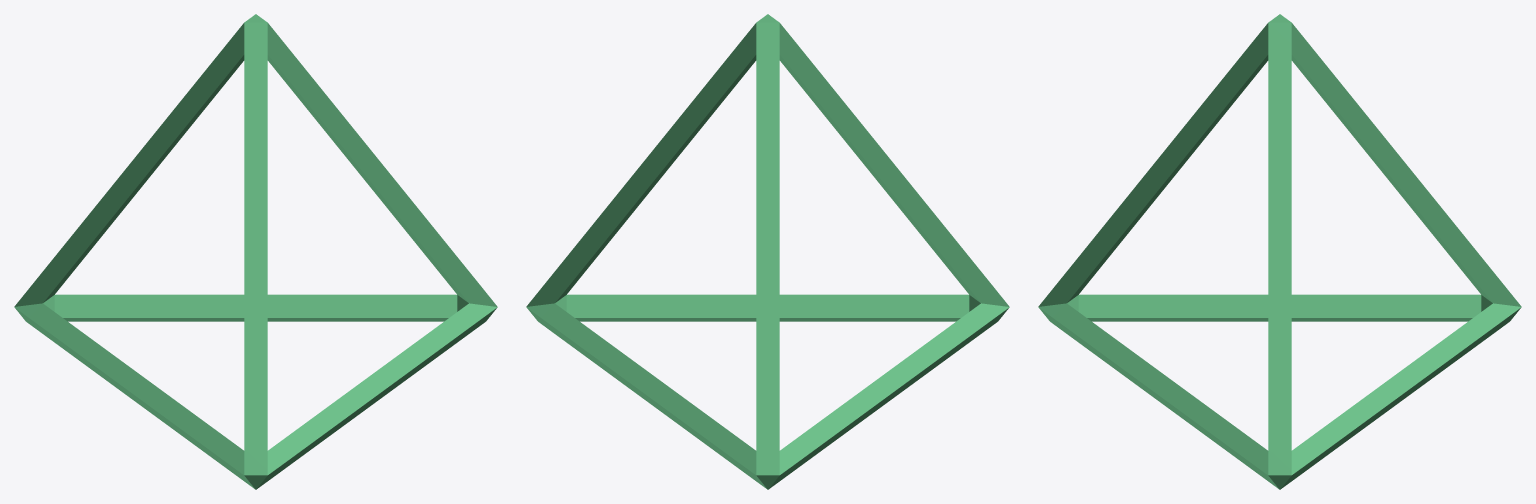
Rendered from TETRA_01.fbx.
3 views of the same model, side by side, from view 1: azimuth 30°, elevation 25°; view 2: azimuth 150°, elevation 25°; view 3: azimuth 270°, elevation 25° (orthographic).
Visible parts, largest first — view 1: TETRA_FINAL; view 2: TETRA_FINAL; view 3: TETRA_FINAL.
Part boxes in pixels (x1,y1,x2,y2): TETRA_FINAL: [14, 14, 497, 489]; TETRA_FINAL: [526, 14, 1009, 489]; TETRA_FINAL: [1038, 14, 1521, 489].
Size of the model in its own units: 0.0243 by 0.023 by 0.0281.
